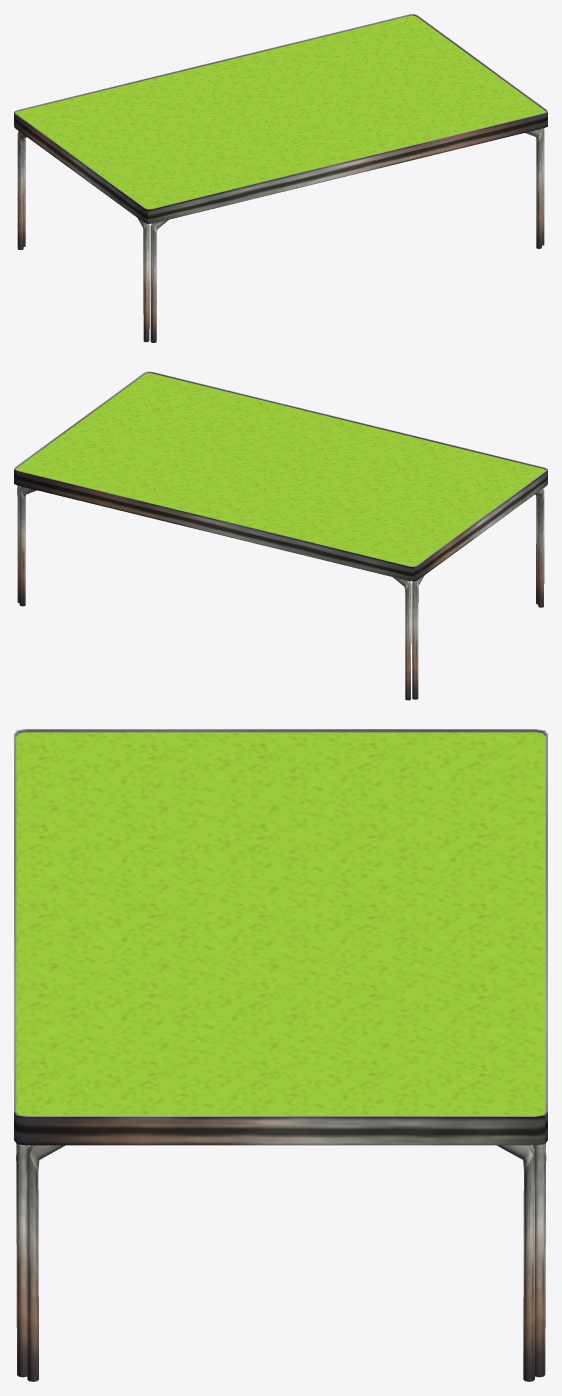
The model's file is Dining_Table_03_B.FBX.
3 views of the same model, one above another, from view 1: azimuth 30°, elevation 25°; view 2: azimuth 150°, elevation 25°; view 3: azimuth 270°, elevation 25° (orthographic). The views are drawn at different scales.
Visible parts, largest first — view 1: Dining_Table; view 2: Dining_Table; view 3: Dining_Table.
Part boxes in pixels (x1,y1,x2,y2): Dining_Table: (14,14,547,342); Dining_Table: (14,371,547,700); Dining_Table: (14,729,547,1381).
Size of the model in its own units: 437 by 140 by 254.
